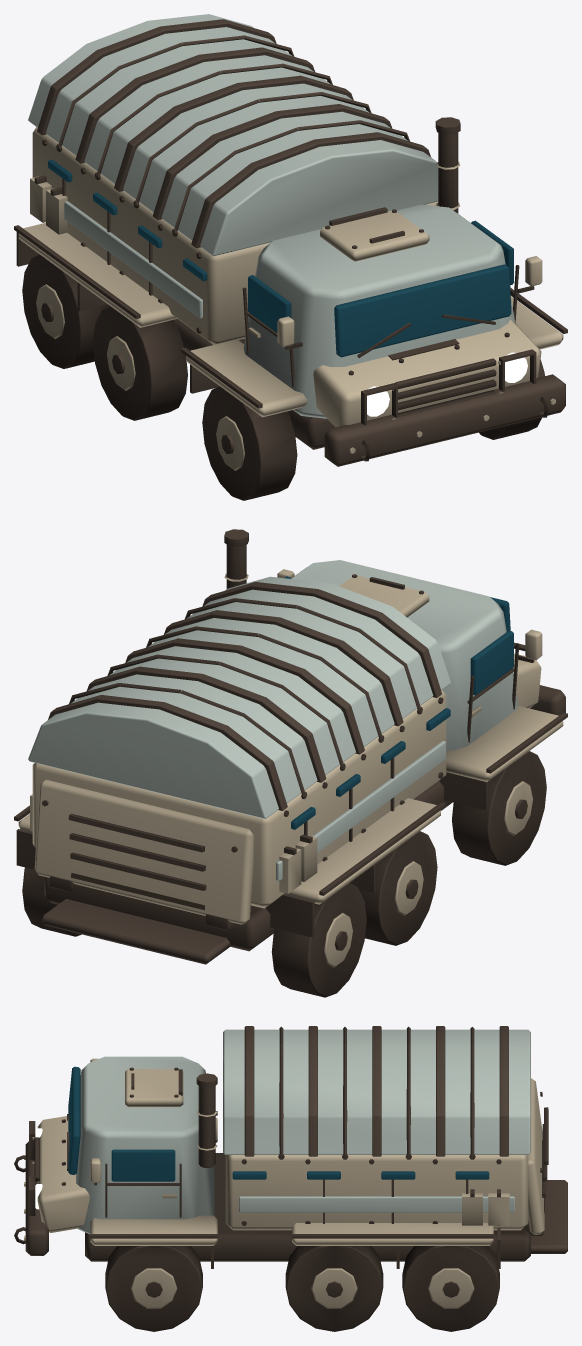
File: carrier.glb
3 renders of one model, top to bottom at view 1: azimuth 30°, elevation 25°; view 2: azimuth 150°, elevation 25°; view 3: azimuth 270°, elevation 25°, orthographic. The views are drawn at different scales.
Visible parts, largest first — view 1: Canvas_roof, Cab, Wheels, Cargo_walls, Cargo_ribs, Windshield, Bumper, Hood, Fenders, Roof_straps, Rear_fenders, Roof_hatch (+15 smaller); view 2: Canvas_roof, Wheels, Rear_ramp, Cargo_walls, Cargo_ribs, Cab, Rear_step, Roof_straps, Chassis, Rear_fenders, Mud_flaps, Fenders (+15 smaller); view 3: Canvas_roof, Wheels, Cargo_walls, Cab, Cargo_ribs, Chassis, Hood, Rescue_stripe, Wheel_hubs, Rear_fenders, Fenders, Roof_straps (+14 smaller).
Boxes of the visible parts, left/top/right/bottom form: Canvas_roof: left=28, top=14, right=438, bottom=256; Cab: left=243, top=204, right=515, bottom=418; Wheels: left=22, top=254, right=544, bottom=500; Cargo_walls: left=32, top=127, right=438, bottom=344; Cargo_ribs: left=37, top=19, right=431, bottom=248; Windshield: left=334, top=264, right=511, bottom=357; Bumper: left=324, top=374, right=565, bottom=466; Hood: left=313, top=319, right=541, bottom=427; Fenders: left=186, top=296, right=563, bottom=417; Roof_straps: left=57, top=35, right=409, bottom=232; Rear_fenders: left=18, top=223, right=177, bottom=327; Roof_hatch: left=320, top=210, right=429, bottom=261; Canvas_roof: left=28, top=576, right=450, bottom=818; Wheels: left=22, top=751, right=546, bottom=997; Rear_ramp: left=34, top=779, right=253, bottom=924; Cargo_walls: left=32, top=690, right=446, bottom=908; Cargo_ribs: left=48, top=582, right=441, bottom=810; Cab: left=291, top=560, right=518, bottom=751; Rear_step: left=42, top=899, right=230, bottom=964; Roof_straps: left=69, top=598, right=421, bottom=795; Chassis: left=44, top=780, right=452, bottom=951; Rear_fenders: left=18, top=798, right=440, bottom=904; Mud_flaps: left=16, top=772, right=488, bottom=937; Fenders: left=446, top=705, right=563, bottom=781; Canvas_roof: left=223, top=1029, right=530, bottom=1154; Wheels: left=105, top=1246, right=499, bottom=1331; Cargo_walls: left=225, top=1155, right=528, bottom=1230; Cab: left=76, top=1056, right=214, bottom=1234; Cargo_ribs: left=244, top=1026, right=508, bottom=1156; Chassis: left=85, top=1153, right=530, bottom=1261; Hood: left=37, top=1116, right=89, bottom=1232; Rescue_stripe: left=239, top=1196, right=514, bottom=1212; Wheel_hubs: left=130, top=1268, right=474, bottom=1308; Rear_fenders: left=292, top=1223, right=493, bottom=1245; Fenders: left=90, top=1117, right=217, bottom=1245; Roof_straps: left=279, top=1026, right=474, bottom=1156.
Bounding box in the file's own units: 2.78 × 2.49 × 5.22.
